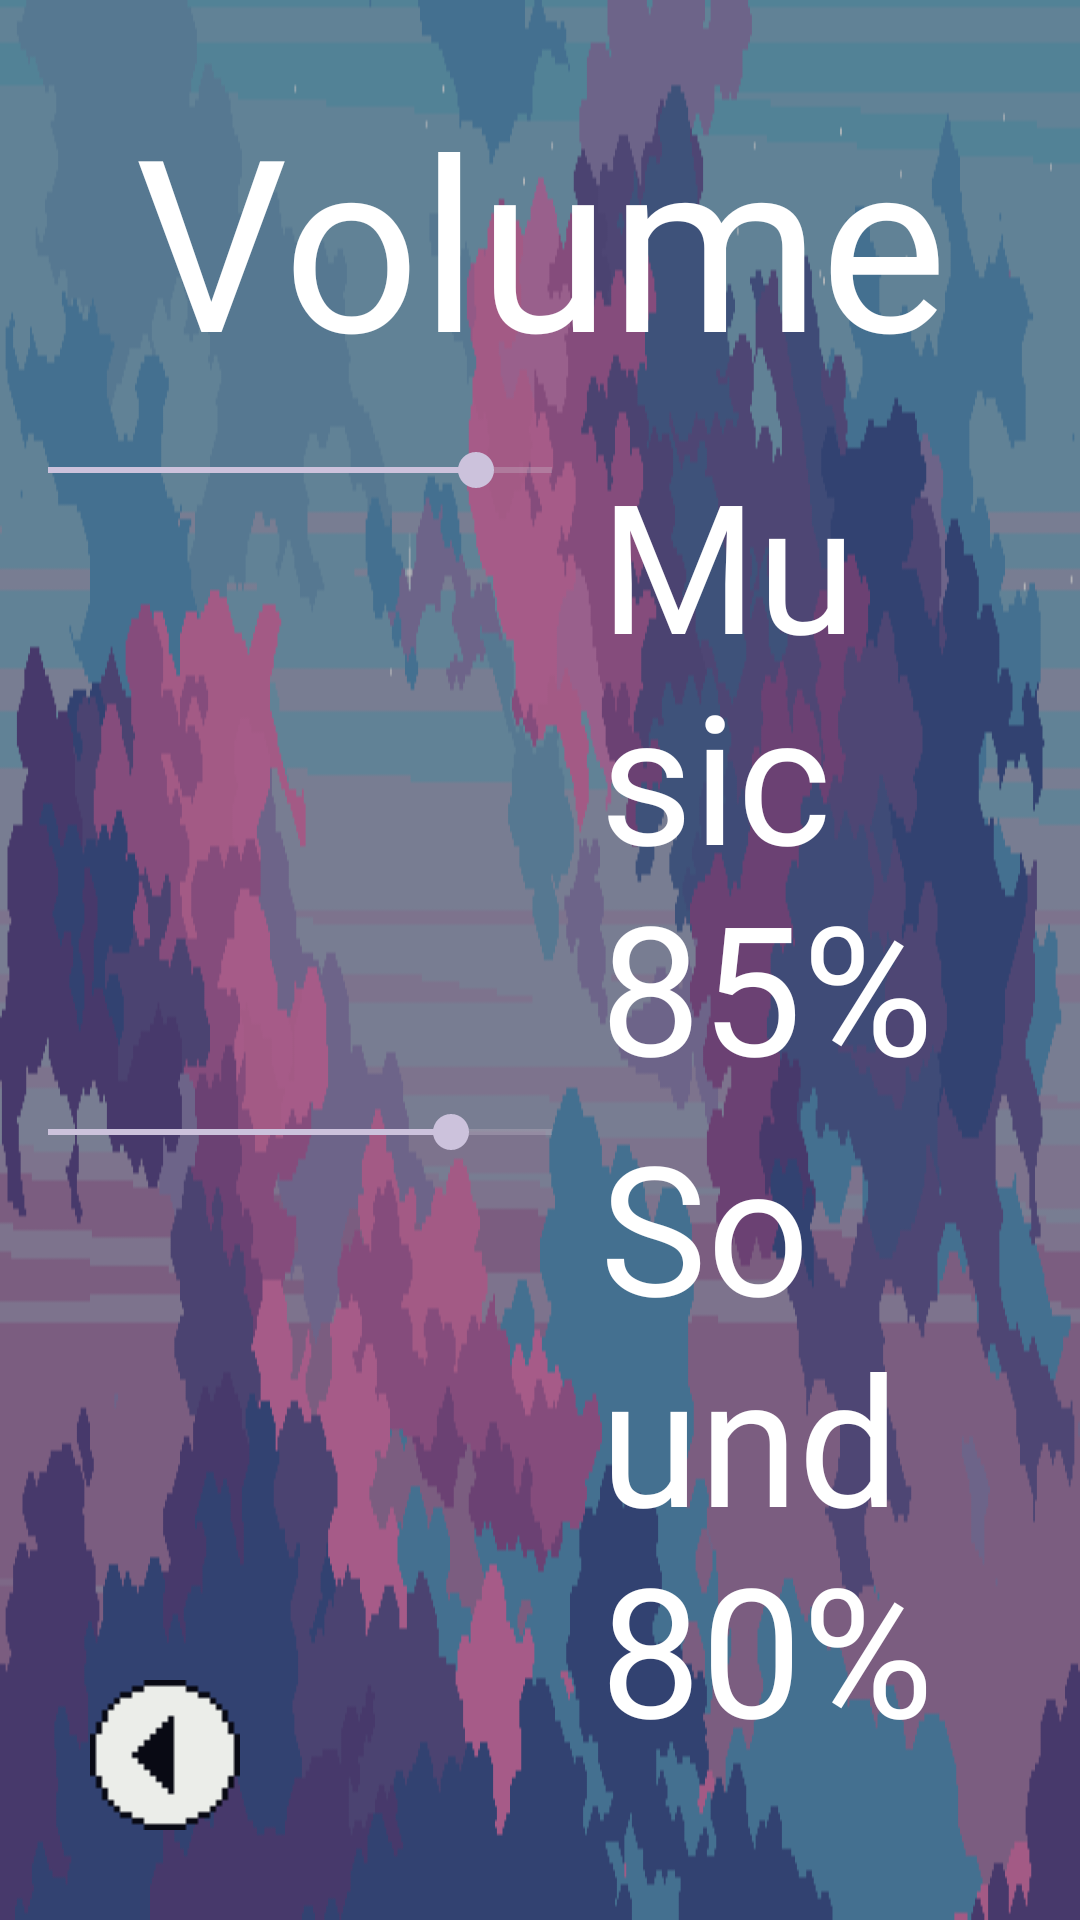

Where icons sit on this 1080x1920 app screen, as (x1, y1, x2, y2):
back: (90, 1680, 240, 1830)
